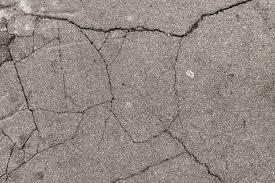Crack: (0, 0, 254, 183), (23, 0, 253, 182), (0, 16, 38, 149), (111, 144, 190, 182), (14, 34, 47, 61), (0, 128, 16, 177), (49, 28, 60, 59), (0, 4, 10, 10)
